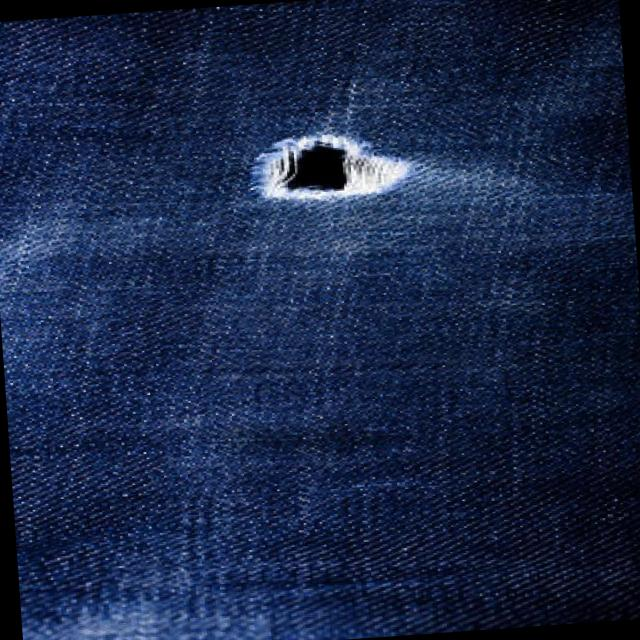hole: (248, 130, 412, 206)
